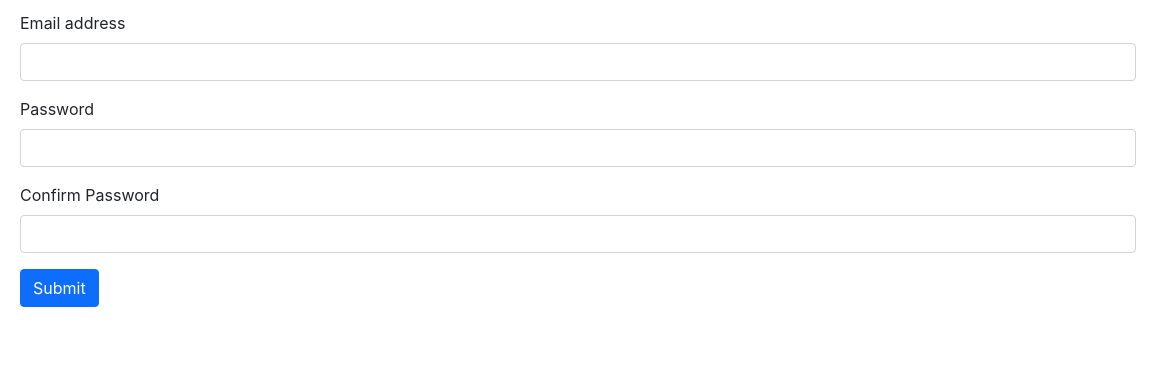
Test: SignUp › Error Handling › should show password error if password is less than 5 characters
Type "jhuee@naver.com" into the field labelled "Email address" at (578, 62), box [20,43,1136,81]
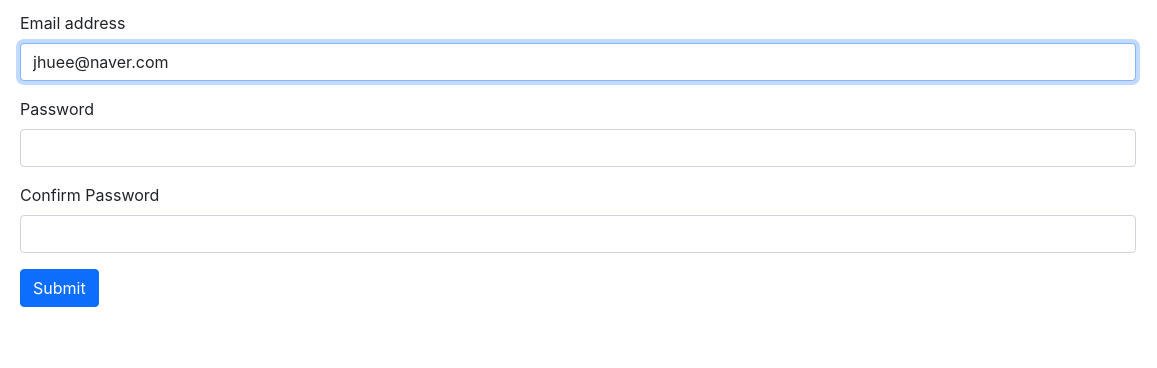
Expected: the text "the password you entered should contain 5 or more characters" is not shown
Type "123" into the password field labelled "Password" at (578, 148), box [20,129,1136,167]
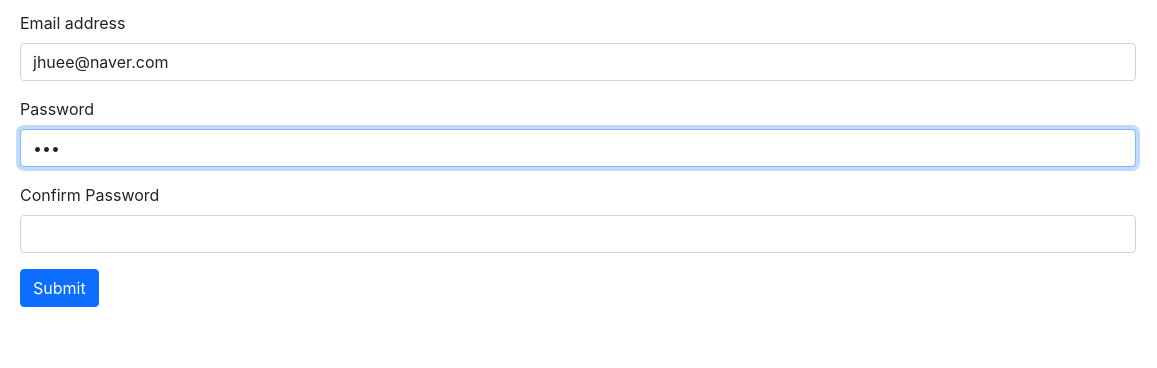
Click the button "Submit" at (59, 288), box [20,269,99,307]
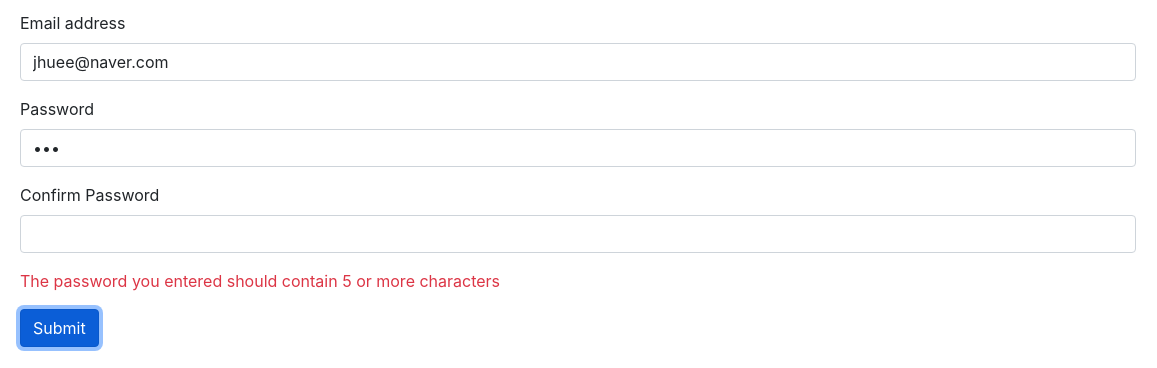
Now the text "The password you entered should contain 5 or more characters" is shown, box [20,271,500,291]
